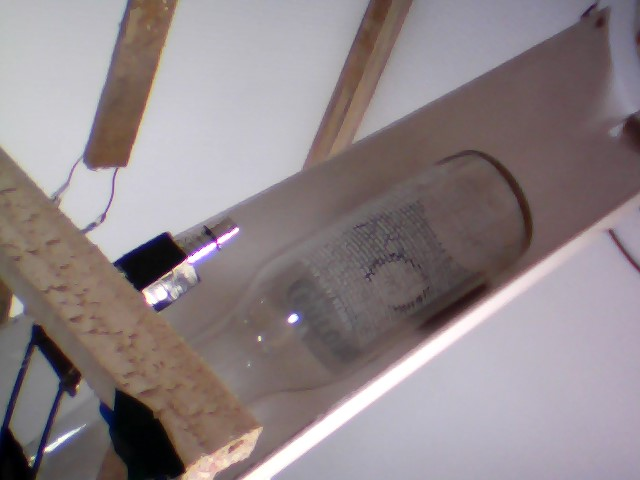vidrio: (189, 138, 537, 412)
